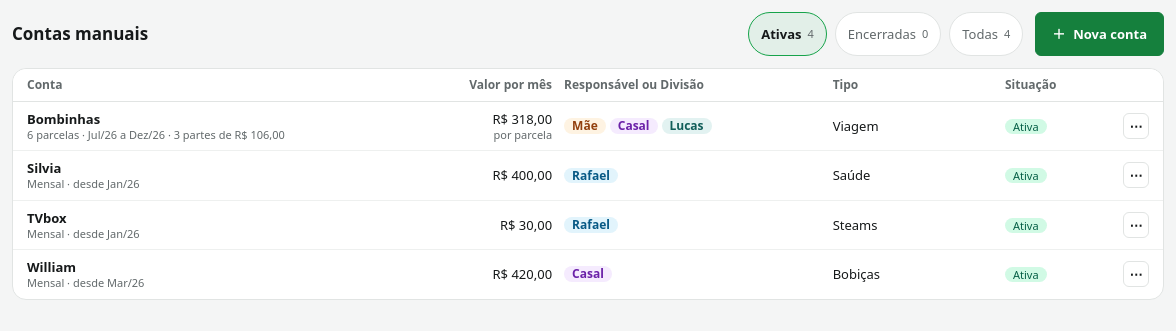
Test case: ContasManuais › ⋯ de cada linha › tem Editar, Encerrar e Excluir, todos valendo numa Conta ativa (a 5.4 ligou o que estava 'Em breve')
This screenshot has width=1176, height=331.
Click the button named "Ações de Bombinhas".
click(1136, 126)  # box top-left (1123, 113), bottom-right (1149, 139)
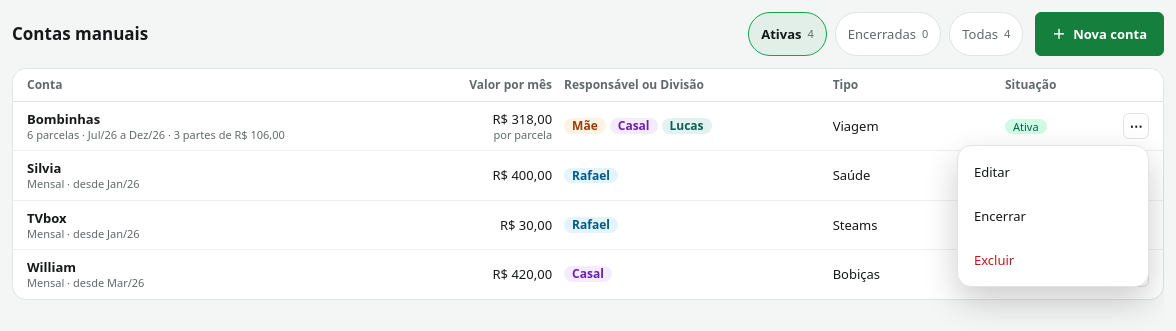
Check: the menu items read "Editar", "Encerrar", "Excluir", in this order, box top-left (974, 163), bottom-right (1010, 181); top-left (974, 207), bottom-right (1026, 225); top-left (974, 251), bottom-right (1014, 269)
